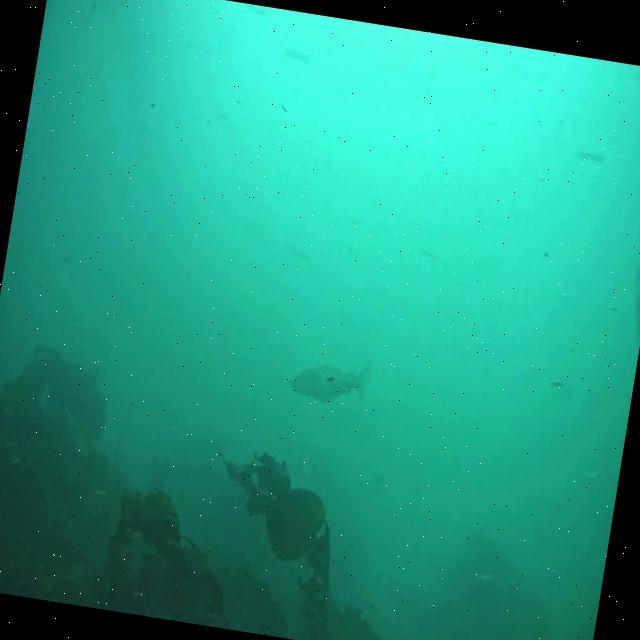fish: (284, 358, 374, 413)
